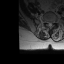CCS_normal: (49, 19, 51, 28)
LFS_stenosis: (53, 19, 55, 24)
LLS_normal: (51, 20, 53, 26)
RFS_stenosis: (45, 19, 47, 24)
RLS_normal: (47, 19, 49, 26)
